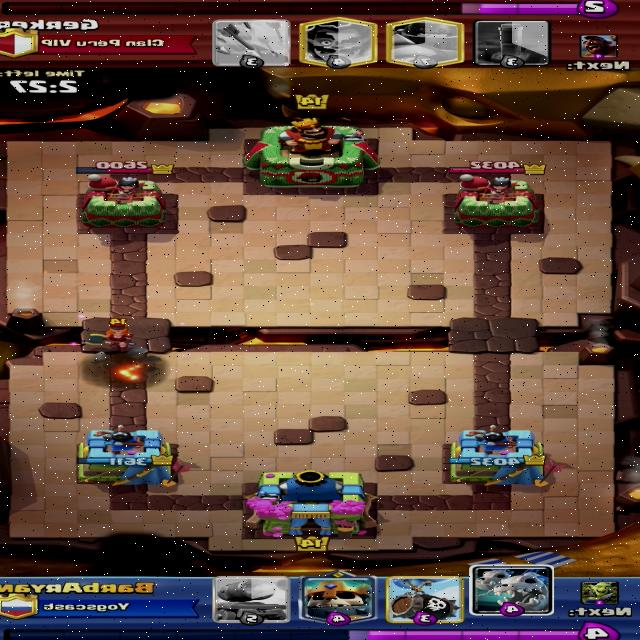Enemy-Valkyrie: (83, 318, 136, 355)
